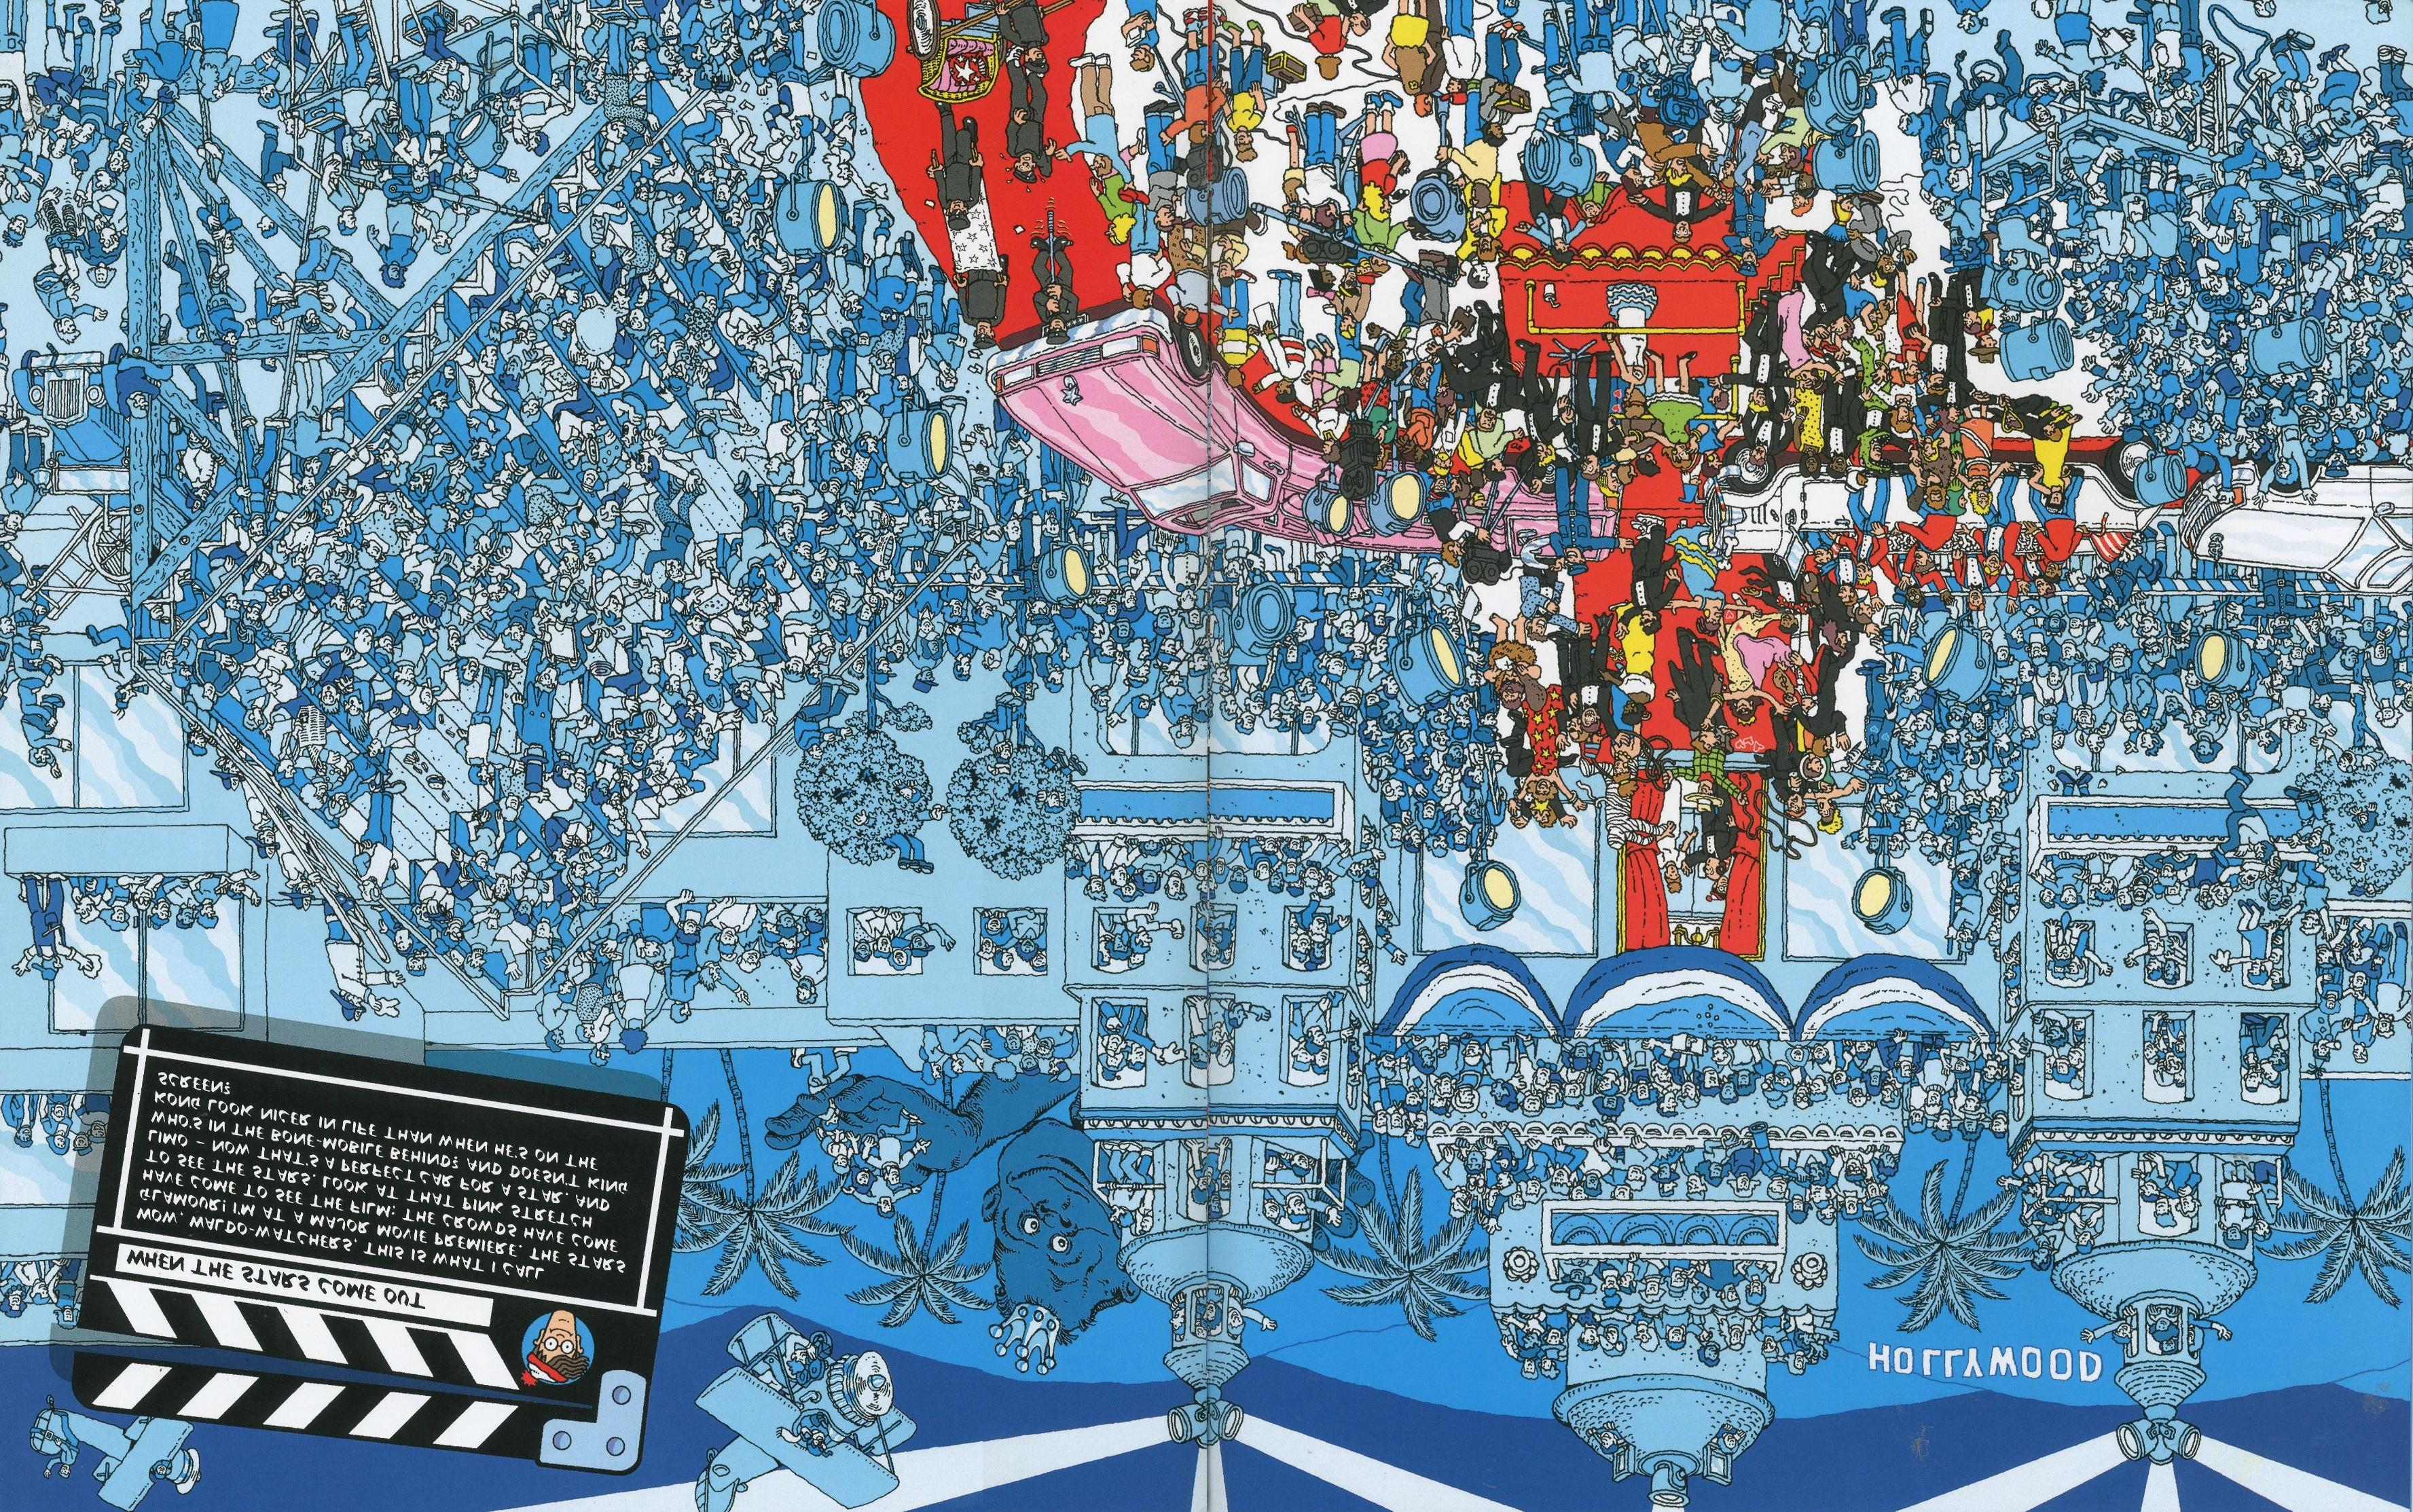waldos: (1704, 855, 1734, 904)
